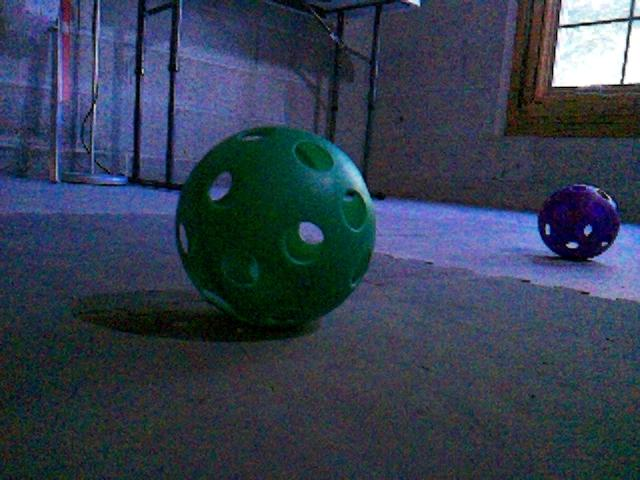Green: (173, 125, 375, 327)
Purple: (537, 183, 621, 261)
